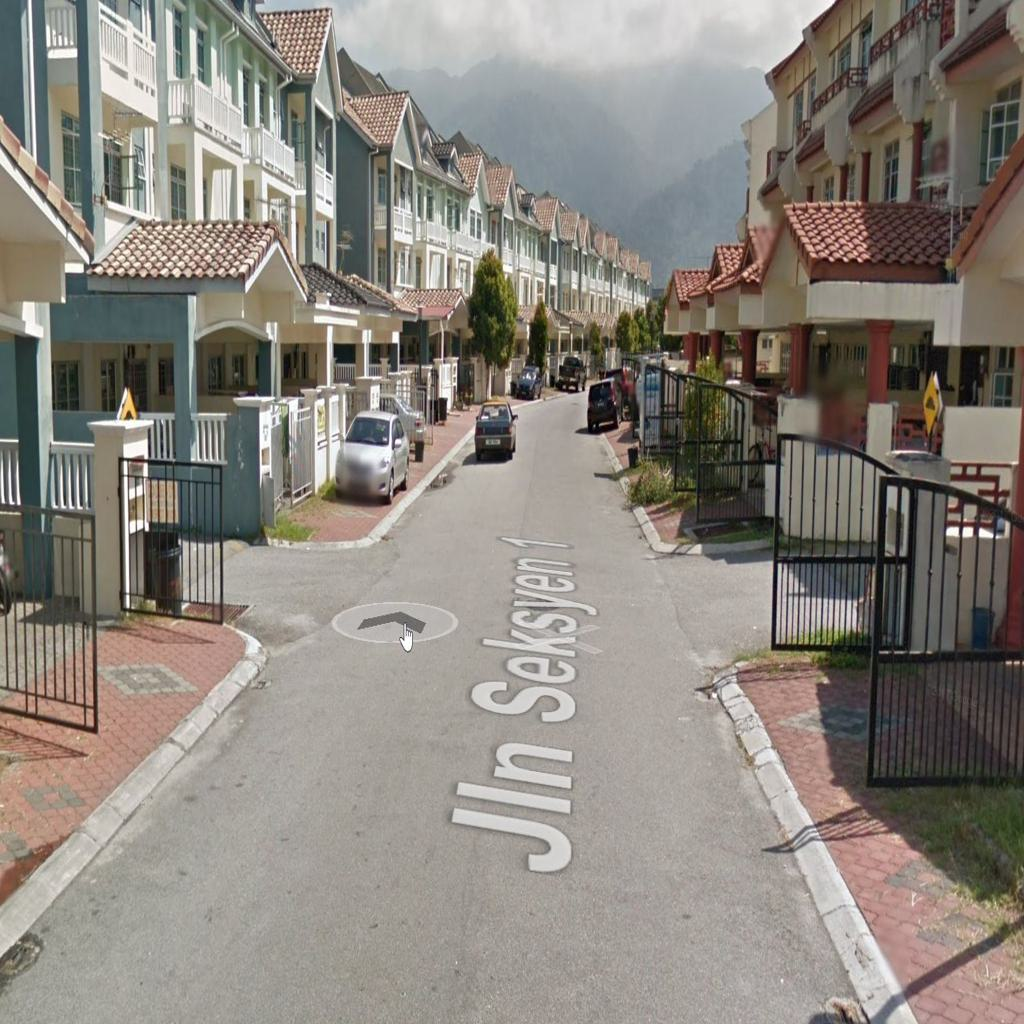Junction: (600, 514, 861, 696), (155, 512, 382, 699)
